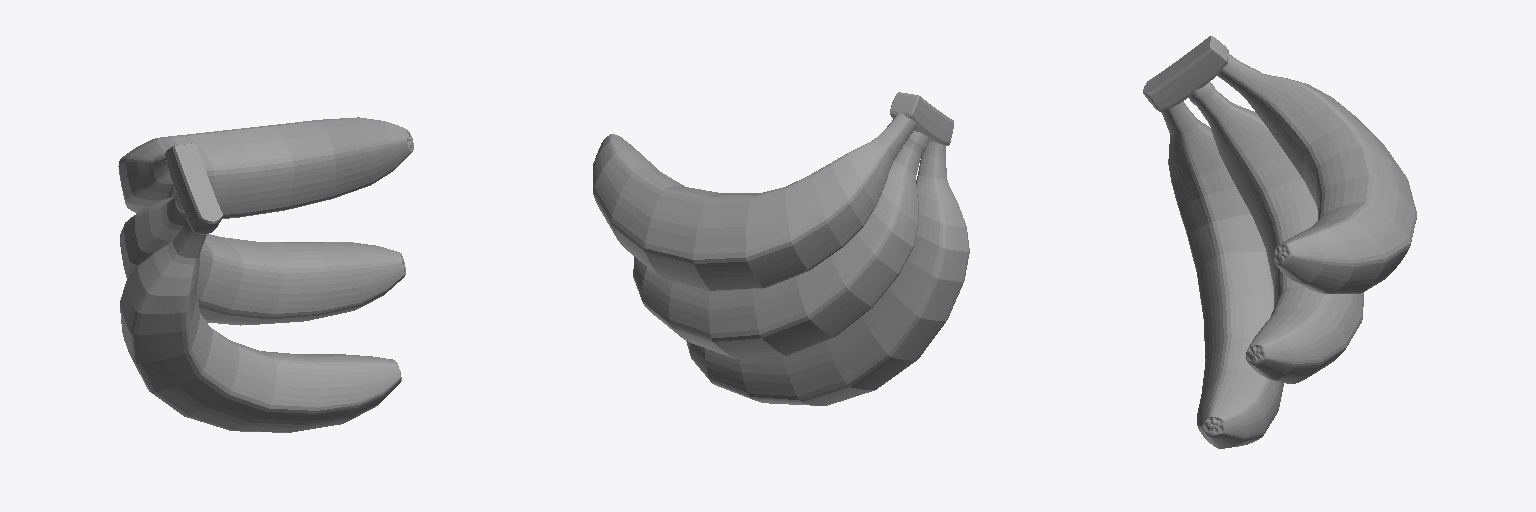
The model's file is banana.obj.
3 views of the same model, side by side, from view 1: azimuth 30°, elevation 25°; view 2: azimuth 150°, elevation 25°; view 3: azimuth 270°, elevation 25° (orthographic).
Parts seen in each view (by area): view 1: banana_Cube.014; view 2: banana_Cube.014; view 3: banana_Cube.014.
Boxes of the visible parts, <box> form: banana_Cube.014: <box>118,117,413,432</box>; banana_Cube.014: <box>593,92,969,405</box>; banana_Cube.014: <box>1143,36,1416,448</box>.
Bounding box in the file's own units: 2.39 × 2.33 × 1.77.